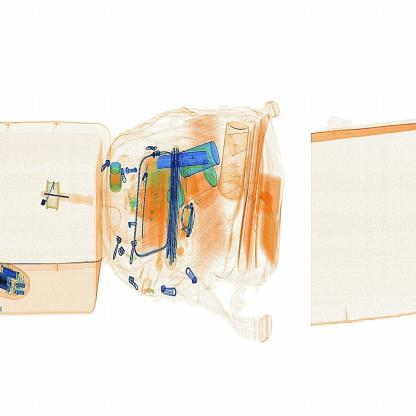pliers: (147, 148, 205, 173)
